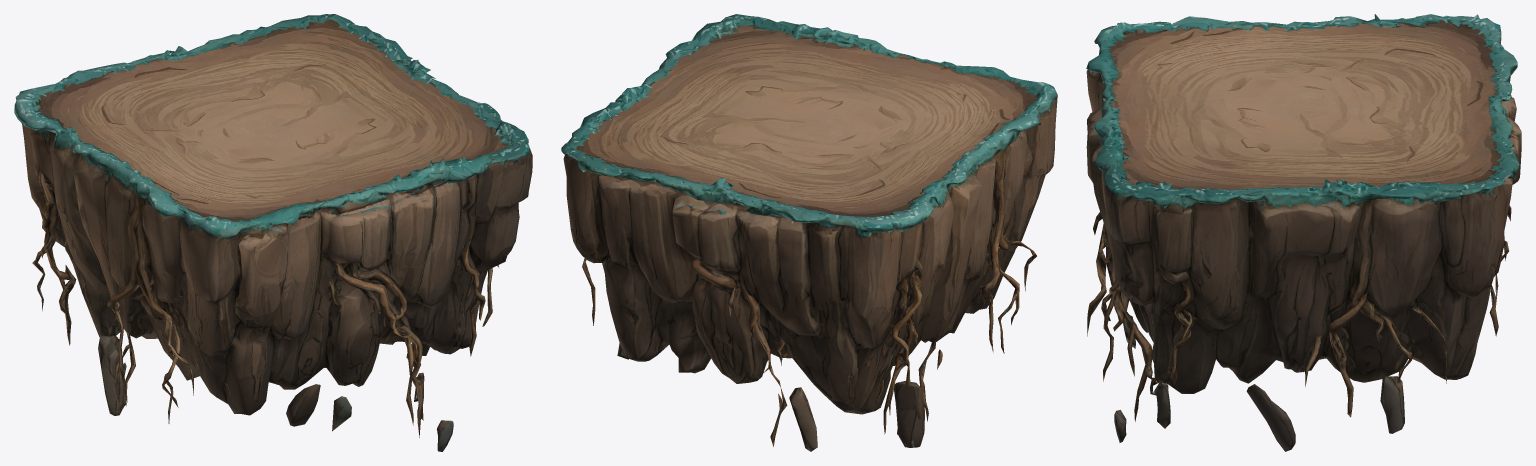
The model's file is IslandBase_raw.glb.
The picture shows the model from 3 angles, left to right: view 1: azimuth 30°, elevation 25°; view 2: azimuth 150°, elevation 25°; view 3: azimuth 270°, elevation 25°; orthographic projection. The views are drawn at different scales.
Visible parts, largest first — view 1: texture_mapping; view 2: texture_mapping; view 3: texture_mapping.
Boxes of the visible parts, left/top/right/bottom form: texture_mapping: left=14, top=14, right=532, bottom=451; texture_mapping: left=561, top=14, right=1057, bottom=451; texture_mapping: left=1086, top=14, right=1521, bottom=451.
Bounding box in the file's own units: 0.9702 × 0.743 × 0.9591.
1 material, 1 textured.
